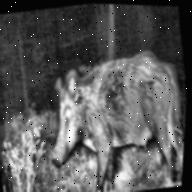boar: (24, 23, 191, 185)
